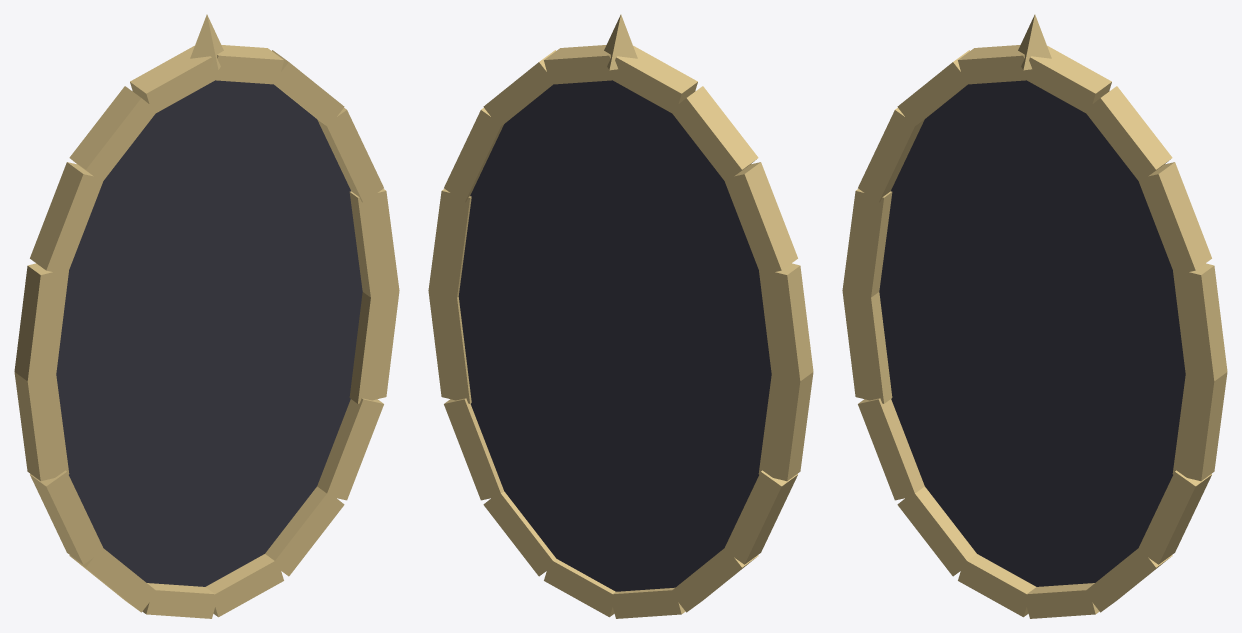
Rendered from vampire-crypt-and-gothic-cathedral-portrait-frame-oval-a314814f__23032.glb.
The picture shows the model from 3 angles, left to right: view 1: azimuth 30°, elevation 25°; view 2: azimuth 150°, elevation 25°; view 3: azimuth 330°, elevation 25°; orthographic projection.
Visible parts, largest first — view 1: portrait-frame-oval; view 2: portrait-frame-oval; view 3: portrait-frame-oval.
Boxes of the visible parts, x1,y1,x2,y2 form: portrait-frame-oval: [14, 14, 399, 618]; portrait-frame-oval: [428, 14, 813, 618]; portrait-frame-oval: [842, 14, 1227, 618].
Size of the model in its own units: 1.3 by 2 by 0.14.
